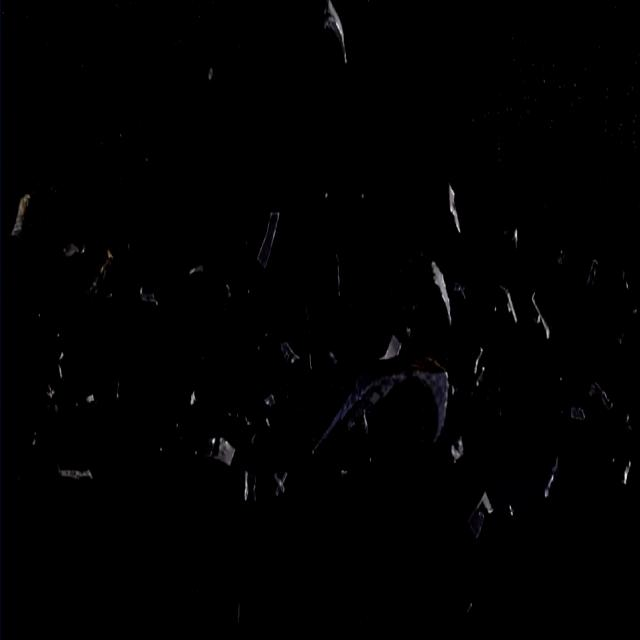large_debris: (307, 317, 457, 481), (243, 190, 280, 284), (75, 236, 122, 310), (315, 0, 353, 73), (465, 484, 496, 548), (430, 256, 456, 332), (7, 182, 36, 244), (584, 365, 617, 419), (529, 279, 553, 349), (202, 428, 238, 472), (497, 277, 521, 334), (540, 446, 563, 504), (134, 272, 162, 318), (54, 458, 95, 489), (442, 178, 463, 238), (274, 333, 303, 375), (236, 468, 260, 511), (585, 244, 606, 293), (327, 249, 344, 301), (272, 466, 290, 504), (187, 255, 208, 286), (222, 276, 236, 310)
